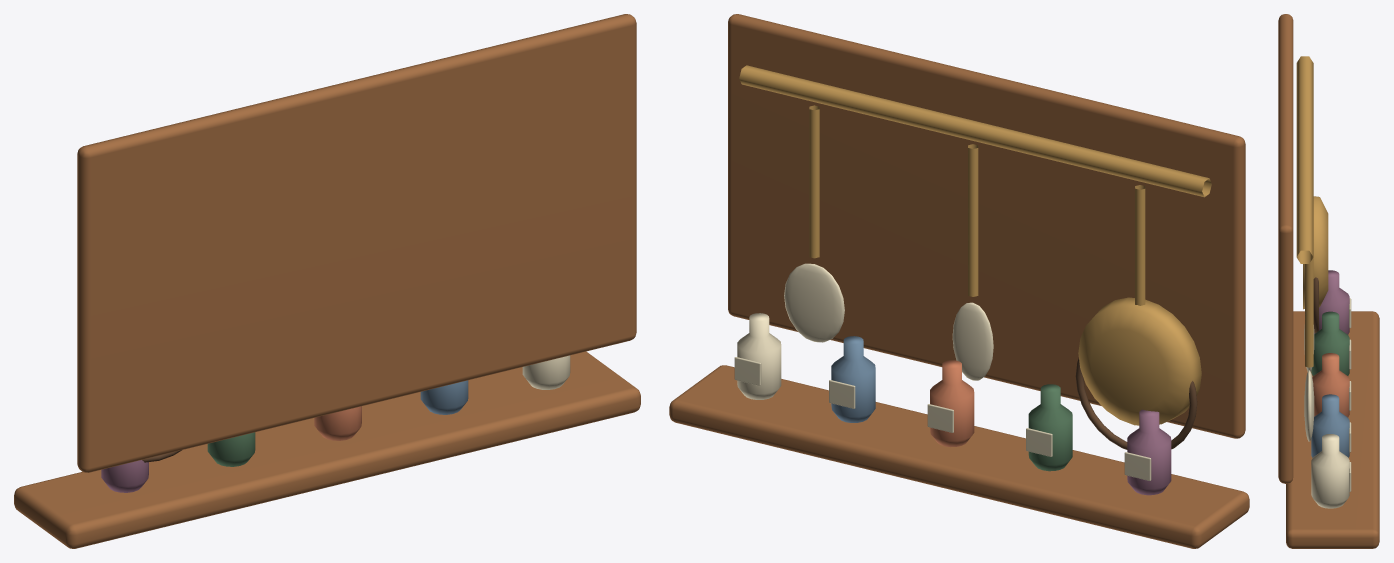
File: kitchen_rack.glb
3 renders of one model, left to right at view 1: azimuth 30°, elevation 25°; view 2: azimuth 150°, elevation 25°; view 3: azimuth 270°, elevation 25°, orthographic. The views are drawn at different scales.
Parts seen in each view (by area): view 1: House07_kitchen_rack; view 2: House07_kitchen_rack; view 3: House07_kitchen_rack.
Part boxes in pixels (x1,y1,x2,y2): House07_kitchen_rack: (14,14,640,548); House07_kitchen_rack: (669,14,1249,548); House07_kitchen_rack: (1278,14,1379,548).
Bounding box in the file's own units: 1.24 × 0.83 × 0.2375.
